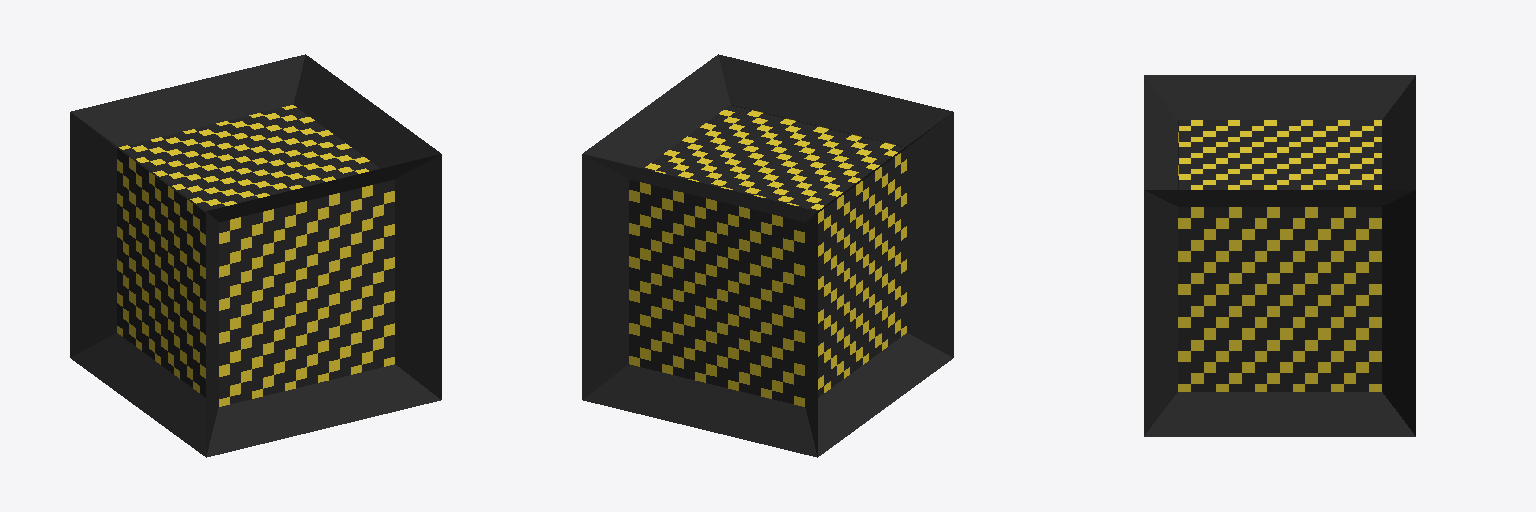
The picture shows the model from 3 angles: view 1: azimuth 30°, elevation 25°; view 2: azimuth 150°, elevation 25°; view 3: azimuth 270°, elevation 25°; orthographic projection.
Parts seen in each view (by area): view 1: cuboid; view 2: cuboid; view 3: cuboid.
Boxes of the visible parts, x1=… form: cuboid: x1=70, y1=54, x2=441, y2=457; cuboid: x1=582, y1=54, x2=953, y2=457; cuboid: x1=1144, y1=75, x2=1415, y2=436.
Bounding box in the file's own units: 1 × 1 × 1.
Materials: 1 (1 with a texture image).